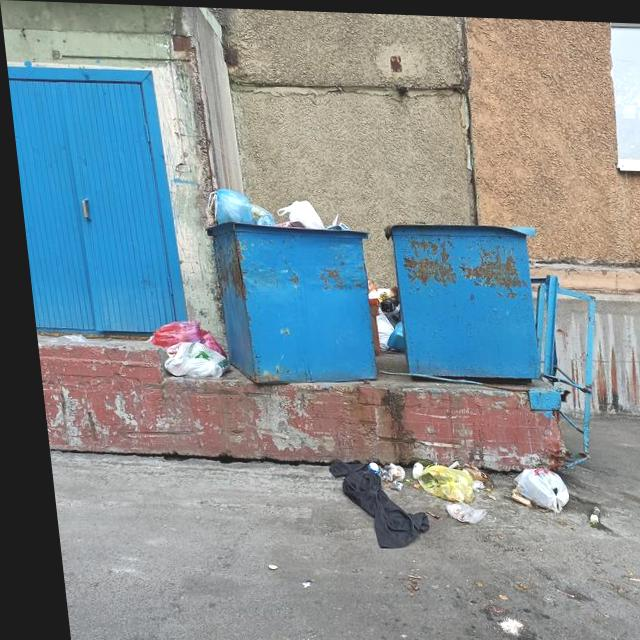Trash_Can_Full: (205, 187, 366, 381)
